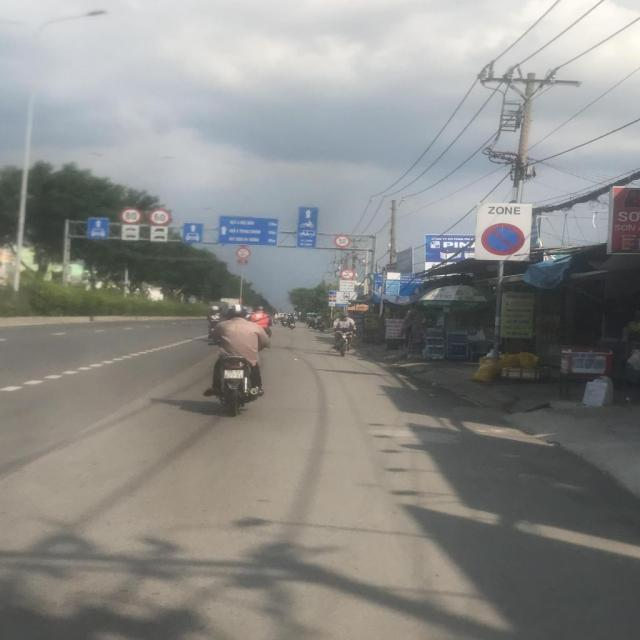107-cam-oto-khach-va-oto-tai: (340, 268, 354, 280)
127-toc-do-toi-da-50: (336, 235, 350, 248)
127-toc-do-toi-da-60: (150, 208, 172, 226)
127-toc-do-toi-da-80: (120, 207, 144, 225)
131a-cam-do-xe: (482, 222, 525, 256)
